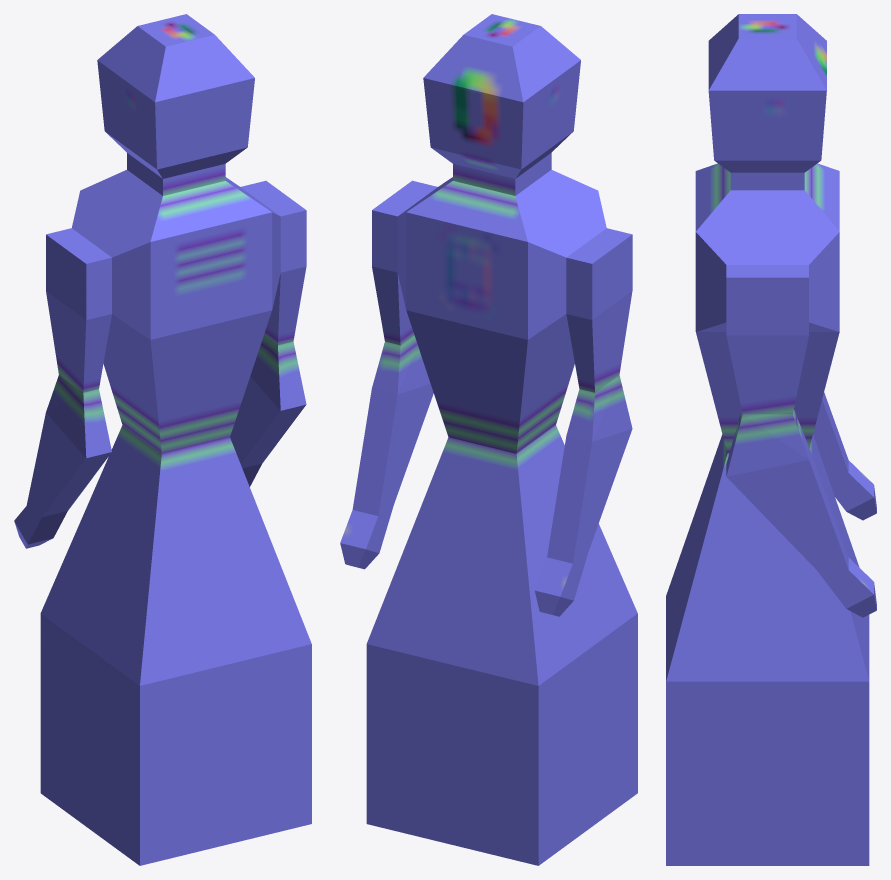
File: robot_texture.obj
The picture shows the model from 3 angles, left to right: view 1: azimuth 30°, elevation 25°; view 2: azimuth 150°, elevation 25°; view 3: azimuth 270°, elevation 25°; orthographic projection. The views are drawn at different scales.
Parts seen in each view (by area): view 1: RobotTex_Mesh; view 2: RobotTex_Mesh; view 3: RobotTex_Mesh.
Part boxes in pixels (left/top/right/bottom): RobotTex_Mesh: left=14, top=14, right=311, bottom=865; RobotTex_Mesh: left=340, top=14, right=637, bottom=865; RobotTex_Mesh: left=666, top=14, right=876, bottom=865.
Size of the model in its own units: 0.2562 by 0.8649 by 0.2074.
Materials: 1 (1 with a texture image).
